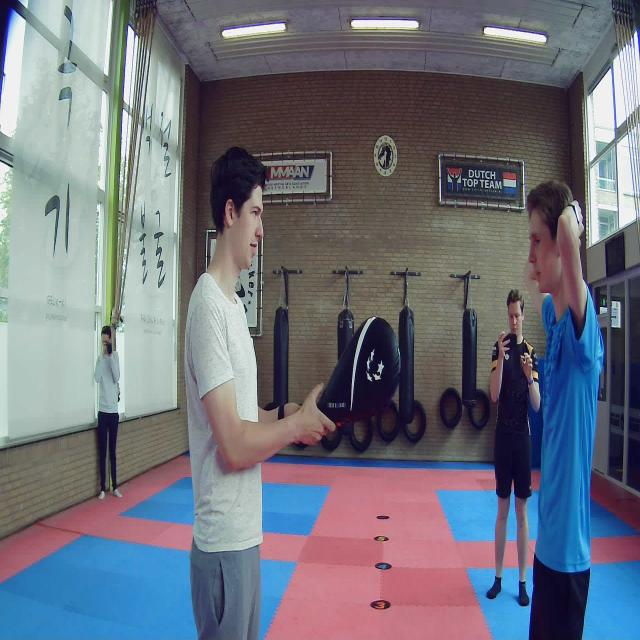paddle: (316, 314, 400, 422)
